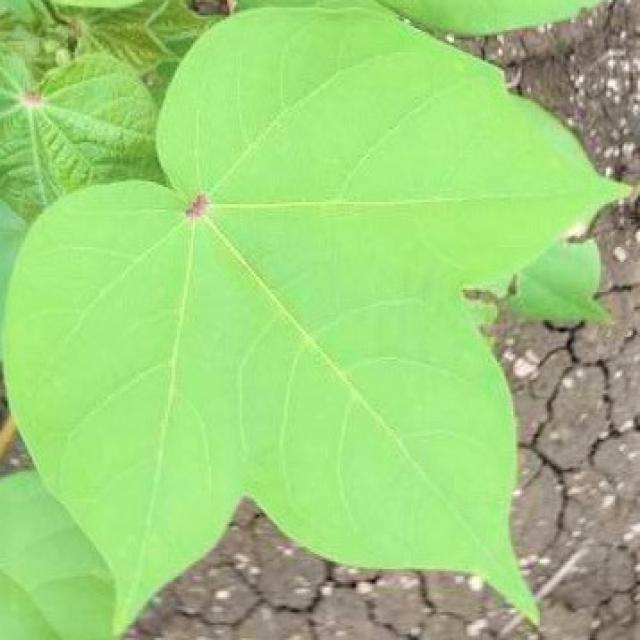Healthy Leaf: (29, 5, 405, 431)
